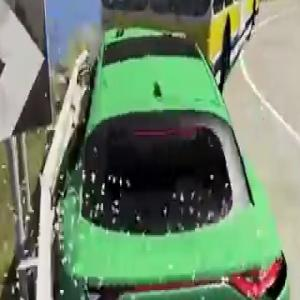serious: (42, 0, 296, 300)
